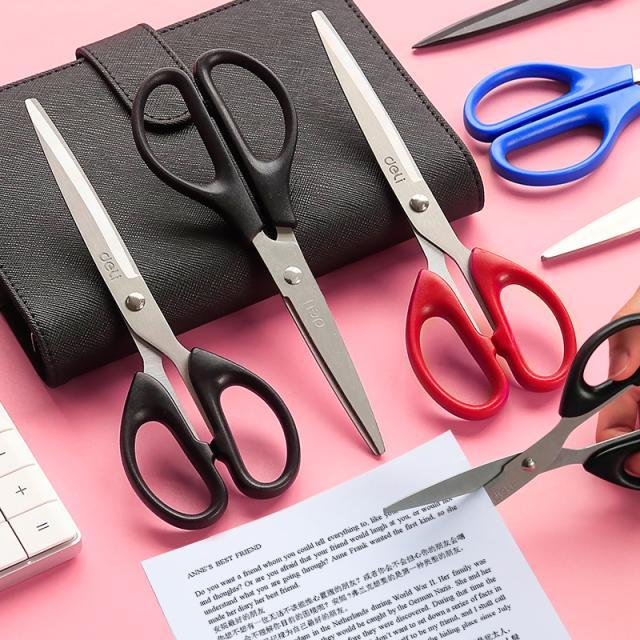tesoura: (9, 81, 323, 555), (102, 29, 404, 476), (300, 0, 589, 450)
